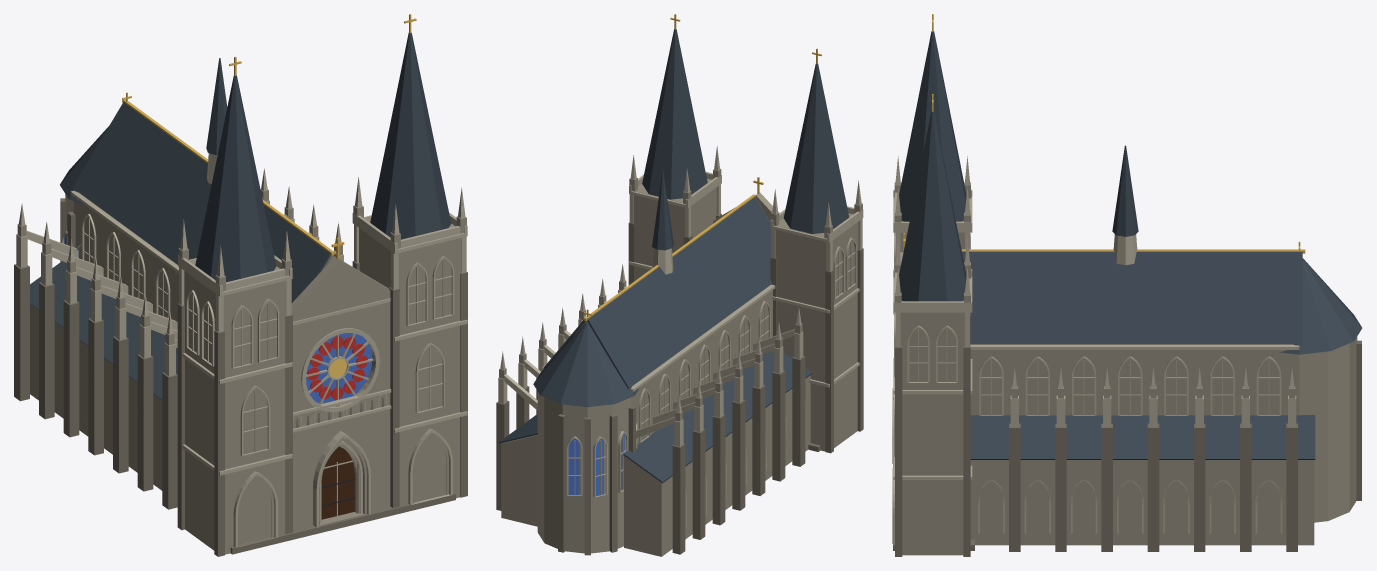
The model's file is town-cathedral.glb.
3 views of the same model, side by side, from view 1: azimuth 30°, elevation 25°; view 2: azimuth 150°, elevation 25°; view 3: azimuth 270°, elevation 25° (orthographic). The views are drawn at different scales.
Visible parts, largest first — view 1: stone1, slate187, stone66, stone131, slate58, slate123, stone191_mx, stone186, slate192_mx, stoneDark5, stoneDark207_2_mx, stoneDark207_5_mx (+25 smaller); view 2: slate187, stone1, stone214, stone191_mx, slate58, slate123, stone186, slate215, slate192_mx, stone66, stone191, stoneDark6 (+17 smaller); view 3: slate188, stone191, stone186, stone66, slate192, stone214, slate123, slate58, slate215, stoneDark74, stoneDark75, stoneLight190 (+12 smaller).
Boxes of the visible parts, x1,y1,x2,y2 form: stone1: (184,259,286,554); slate187: (72,102,330,302); stone66: (359,216,461,505); stone131: (291,256,390,529); slate58: (195,75,276,282); slate123: (370,33,451,239); stone191_mx: (30,304,162,490); stone186: (73,192,352,452); slate192_mx: (30,261,177,400); stoneDark5: (214,330,224,556); stoneDark207_2_mx: (137,354,153,491); stoneDark207_5_mx: (63,300,79,437); slate187: (587,197,772,388); stone1: (775,213,858,451); stone214: (537,391,630,553); stone191_mx: (624,375,810,556); slate58: (783,64,849,233); slate123: (642,29,707,199); stone186: (573,202,772,444); slate215: (533,322,638,407); slate192_mx: (623,350,811,483); stone66: (634,178,716,280); stone191: (501,435,537,526); stoneDark6: (825,270,833,453); slate188: (962,252,1302,344); stone191: (970,460,1314,545); stone186: (970,344,1299,415); stone66: (900,278,969,555); slate192: (970,415,1315,459); stone214: (1299,337,1357,522); slate123: (899,111,966,301); slate58: (899,31,966,221); slate215: (1280,258,1362,354); stoneDark74: (895,344,902,556); stoneDark75: (963,344,970,556); stoneLight190: (970,345,1299,349).
Size of the model in its own units: 25.7 by 46.8 by 44.74.
